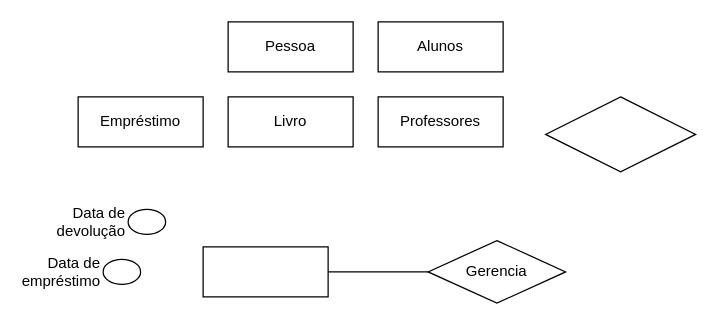
The diagram is 718 pixels wide and 325 high, and some of its shapes have lost their labels. Each missing label, with the centre of its shape:
"Biblioteca" goes at [265,271].
"Solicita" goes at [620,134].
